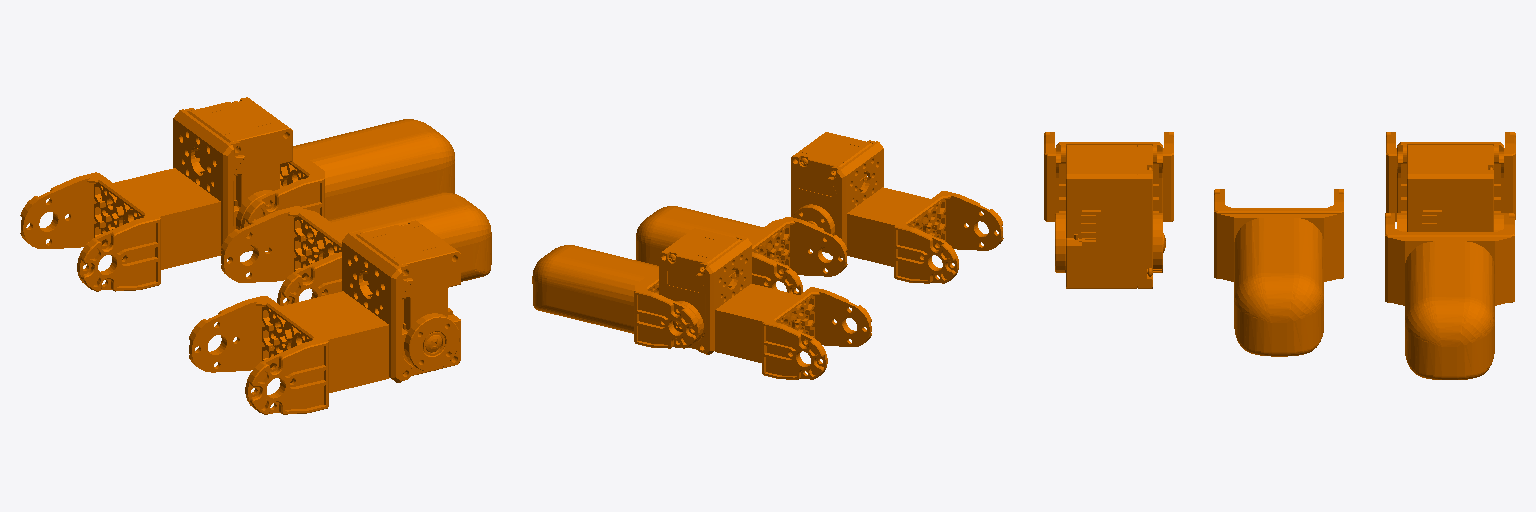
The robot description file, URDF, robot "onshape":
<robot name="onshape">
  <link name="palm_lower">
    <inertial>
      <origin xyz="0.0 0.0 0.0" rpy="0.0 -0.0 0.0"/>
      <mass value="0.237"/>
      <inertia ixx="0.000354094" ixy="-1.193e-06" ixz="-2.445e-06" iyy="0.000260915" iyz="-2.905e-06" izz="0.000529257"/>
    </inertial>
    <visual>
      <geometry>
        <mesh filename="../assets/leap/leap_hand/palm_lower.stl"/>
      </geometry>
      <origin xyz="-0.020095249652862544 0.025757756134899473 -0.034722403578460216" rpy="0.0 -0.0 0.0"/>
      <material name="palm_lower_material">
        <color rgba="0.6039215686274509 0.14901960784313725 0.14901960784313725 1.0"/>
      </material>
    </visual>
    <collision>
      <geometry>
        <mesh filename="../assets/leap/leap_hand/palm_lower.stl"/>
      </geometry>
      <origin xyz="-0.020095249652862544 0.025757756134899473 -0.034722403578460216" rpy="0.0 -0.0 0.0"/>
    </collision>
  </link>
  <link name="mcp_joint">
    <inertial>
      <origin xyz="0.0 0.0 0.0" rpy="0.0 -0.0 0.0"/>
      <mass value="0.044"/>
      <inertia ixx="1.1499e-05" ixy="3.049e-06" ixz="1.21e-07" iyy="7.796e-06" iyz="1.12e-07" izz="1.4759e-05"/>
    </inertial>
    <visual>
      <geometry>
        <mesh filename="../assets/leap/leap_hand/mcp_joint.stl"/>
      </geometry>
      <origin xyz="0.008406902261174496 0.0077662438597169954 0.014657354985032912" rpy="1.6375789613221e-15 -1.021047330249102e-30 1.7177968783327987e-31"/>
      <material name="mcp_joint_material">
        <color rgba="0.8666666666666667 0.8666666666666667 0.050980392156862744 1.0"/>
      </material>
    </visual>
    <collision>
      <geometry>
        <mesh filename="../assets/leap/leap_hand/mcp_joint.stl"/>
      </geometry>
      <origin xyz="0.008406902261174496 0.0077662438597169954 0.014657354985032912" rpy="1.6375789613221e-15 -1.021047330249102e-30 1.7177968783327987e-31"/>
    </collision>
  </link>
  <link name="pip">
    <inertial>
      <origin xyz="0.0 0.0 0.0" rpy="0.0 -0.0 0.0"/>
      <mass value="0.032"/>
      <inertia ixx="4.798e-06" ixy="1.2e-08" ixz="4e-09" iyy="2.862e-06" iyz="1.1e-08" izz="4.234e-06"/>
    </inertial>
    <visual>
      <geometry>
        <mesh filename="../assets/leap/leap_hand/pip.stl"/>
      </geometry>
      <origin xyz="0.009643363092271328 0.0002999999999999895 0.0007840340104173765" rpy="-1.5707963267948966 -1.5707963267948963 0.0"/>
      <material name="pip_material">
        <color rgba="0.7490196078431373 0.7490196078431373 0.7490196078431373 1.0"/>
      </material>
    </visual>
    <collision>
      <geometry>
        <mesh filename="../assets/leap/leap_hand/pip.stl"/>
      </geometry>
      <origin xyz="0.009643363092271328 0.0002999999999999895 0.0007840340104173765" rpy="-1.5707963267948966 -1.5707963267948963 0.0"/>
    </collision>
  </link>
  <link name="dip_long">
    <inertial>
      <origin xyz="0.0 0.0 0.0" rpy="0.0 -0.0 0.0"/>
      <mass value="0.037"/>
      <inertia ixx="5.542e-06" ixy="-6.07e-07" ixz="-1.7e-08" iyy="5.727e-06" iyz="-2.3e-08" izz="6.682e-06"/>
    </inertial>
    <visual>
      <geometry>
        <mesh filename="custom_models/dip_long.stl"/>
      </geometry>
      <origin xyz="0.021133352895225003 -0.00843211914670488 0.00978508816209524" rpy="-3.141592653589793 4.507511124216441e-32 4.439548105392361e-32"/>
      <material name="dip_material">
        <color rgba="0.878 0.467 0.0 1.0"/>
      </material>
    </visual>
    <collision>
      <geometry>
        <mesh filename="custom_models/dip_long.stl"/>
      </geometry>
      <origin xyz="0.021133352895225003 -0.00843211914670488 0.00978508816209524" rpy="-3.141592653589793 4.507511124216441e-32 4.439548105392361e-32"/>
    </collision>
  </link>
  <link name="fingertip_long">
    <inertial>
      <origin xyz="0.0 0.0 0.0" rpy="0.0 -0.0 0.0"/>
      <mass value="0.016"/>
      <inertia ixx="3.368e-06" ixy="1.15e-07" ixz="0.0" iyy="1.556e-06" iyz="0.0" izz="2.863e-06"/>
    </inertial>
    <visual>
      <geometry>
        <mesh filename="custom_models/fingertip_long.stl"/>
      </geometry>
      <origin xyz="0.013286424108533503 -0.006114238386541987 0.014499999999999498" rpy="3.141592653589793 1.1993117970061735e-33 4.439548105392361e-32"/>
      <material name="fingertip_material">
        <color rgba="0.878 0.467 0.0 1.0"/>
      </material>
    </visual>
    <collision>
      <geometry>
        <mesh filename="custom_models/fingertip_long.stl"/>
      </geometry>
      <origin xyz="0.013286424108533503 -0.006114238386541987 0.014499999999999498" rpy="3.141592653589793 1.1993117970061735e-33 4.439548105392361e-32"/>
    </collision>
  </link>
  <link name="pip_4">
    <inertial>
      <origin xyz="0.0 0.0 0.0" rpy="0.0 -0.0 0.0"/>
      <mass value="0.032"/>
      <inertia ixx="4.798e-06" ixy="1.2e-08" ixz="4e-09" iyy="2.862e-06" iyz="1.1e-08" izz="4.234e-06"/>
    </inertial>
    <visual>
      <geometry>
        <mesh filename="../assets/leap/leap_hand/pip.stl"/>
      </geometry>
      <origin xyz="-0.005356636907728671 0.0002999999999999999 0.0007840340104173782" rpy="-1.5707963267948966 -1.5707963267948963 0.0"/>
      <material name="pip_material">
        <color rgba="0.7490196078431373 0.7490196078431373 0.7490196078431373 1.0"/>
      </material>
    </visual>
    <collision>
      <geometry>
        <mesh filename="../assets/leap/leap_hand/pip.stl"/>
      </geometry>
      <origin xyz="-0.005356636907728671 0.0002999999999999999 0.0007840340104173782" rpy="-1.5707963267948966 -1.5707963267948963 0.0"/>
    </collision>
  </link>
  <link name="thumb_pip">
    <inertial>
      <origin xyz="0.0 0.0 0.0" rpy="0.0 -0.0 0.0"/>
      <mass value="0.003"/>
      <inertia ixx="5.93e-07" ixy="0.0" ixz="0.0" iyy="5.49e-07" iyz="0.0" izz="2.24e-07"/>
    </inertial>
    <visual>
      <geometry>
        <mesh filename="../assets/leap/leap_hand/thumb_pip.stl"/>
      </geometry>
      <origin xyz="0.011961920770611187 -5.30825383648903e-16 -0.0158526489566642" rpy="1.5707963267948966 1.6050198443300153e-46 -3.9204996250525193e-59"/>
      <material name="thumb_pip_material">
        <color rgba="0.8666666666666667 0.8666666666666667 0.050980392156862744 1.0"/>
      </material>
    </visual>
    <collision>
      <geometry>
        <mesh filename="../assets/leap/leap_hand/thumb_pip.stl"/>
      </geometry>
      <origin xyz="0.011961920770611187 -5.30825383648903e-16 -0.0158526489566642" rpy="1.5707963267948966 1.6050198443300153e-46 -3.9204996250525193e-59"/>
    </collision>
  </link>
  <link name="thumb_dip">
    <inertial>
      <origin xyz="0.0 0.0 0.0" rpy="0.0 -0.0 0.0"/>
      <mass value="0.038"/>
      <inertia ixx="8.474e-06" ixy="2.41e-07" ixz="2.6e-08" iyy="3.841e-06" iyz="2.5e-08" izz="7.679e-06"/>
    </inertial>
    <visual>
      <geometry>
        <mesh filename="../assets/leap/leap_hand/thumb_dip.stl"/>
      </geometry>
      <origin xyz="0.043968715707239175 0.0579529529737092 -0.008628676449369476" rpy="1.94289029309401e-16 3.27515792264422e-15 1.112375852965736e-46"/>
      <material name="thumb_dip_material">
        <color rgba="0.8666666666666667 0.8666666666666667 0.050980392156862744 1.0"/>
      </material>
    </visual>
    <collision>
      <geometry>
        <mesh filename="../assets/leap/leap_hand/thumb_dip.stl"/>
      </geometry>
      <origin xyz="0.043968715707239175 0.0579529529737092 -0.008628676449369476" rpy="1.94289029309401e-16 3.27515792264422e-15 1.112375852965736e-46"/>
    </collision>
  </link>
  <link name="thumb_fingertip">
    <inertial>
      <origin xyz="0.0 0.0 0.0" rpy="0.0 -0.0 0.0"/>
      <mass value="0.049"/>
      <inertia ixx="2.0372e-05" ixy="-4.89e-07" ixz="-3e-08" iyy="4.336e-06" iyz="-9.7e-08" izz="1.9845e-05"/>
    </inertial>
    <visual>
      <geometry>
        <mesh filename="../assets/leap/leap_hand/thumb_fingertip.stl"/>
      </geometry>
      <origin xyz="0.06255953846266739 0.07845968291139699 0.048992911807332215" rpy="4.379057701015637e-47 -3.33066907387547e-16 1.2042408677791935e-46"/>
      <material name="thumb_fingertip_material">
        <color rgba="0.6039215686274509 0.14901960784313725 0.14901960784313725 1.0"/>
      </material>
    </visual>
    <collision>
      <geometry>
        <mesh filename="../assets/leap/leap_hand/thumb_fingertip.stl"/>
      </geometry>
      <origin xyz="0.06255953846266739 0.07845968291139699 0.048992911807332215" rpy="4.379057701015637e-47 -3.33066907387547e-16 1.2042408677791935e-46"/>
    </collision>
  </link>
  <link name="mcp_joint_2">
    <inertial>
      <origin xyz="0.0 0.0 0.0" rpy="0.0 -0.0 0.0"/>
      <mass value="0.044"/>
      <inertia ixx="1.1499e-05" ixy="3.049e-06" ixz="1.21e-07" iyy="7.796e-06" iyz="1.12e-07" izz="1.4759e-05"/>
    </inertial>
    <visual>
      <geometry>
        <mesh filename="../assets/leap/leap_hand/mcp_joint.stl"/>
      </geometry>
      <origin xyz="0.008406902261174496 0.0077662438597169954 0.014657354985032914" rpy="1.6375789613221e-15 -1.0076465469034e-30 2.1209300131419907e-61"/>
      <material name="mcp_joint_material">
        <color rgba="0.8666666666666667 0.8666666666666667 0.050980392156862744 1.0"/>
      </material>
    </visual>
    <collision>
      <geometry>
        <mesh filename="../assets/leap/leap_hand/mcp_joint.stl"/>
      </geometry>
      <origin xyz="0.008406902261174496 0.0077662438597169954 0.014657354985032914" rpy="1.6375789613221e-15 -1.0076465469034e-30 2.1209300131419907e-61"/>
    </collision>
  </link>
  <link name="pip_2">
    <inertial>
      <origin xyz="0.0 0.0 0.0" rpy="0.0 -0.0 0.0"/>
      <mass value="0.032"/>
      <inertia ixx="4.798e-06" ixy="1.2e-08" ixz="4e-09" iyy="2.862e-06" iyz="1.1e-08" izz="4.234e-06"/>
    </inertial>
    <visual>
      <geometry>
        <mesh filename="../assets/leap/leap_hand/pip.stl"/>
      </geometry>
      <origin xyz="0.009643363092271328 0.0002999999999999947 0.0007840340104173765" rpy="-1.5707963267948966 -1.5707963267948963 0.0"/>
      <material name="pip_material">
        <color rgba="0.7490196078431373 0.7490196078431373 0.7490196078431373 1.0"/>
      </material>
    </visual>
    <collision>
      <geometry>
        <mesh filename="../assets/leap/leap_hand/pip.stl"/>
      </geometry>
      <origin xyz="0.009643363092271328 0.0002999999999999947 0.0007840340104173765" rpy="-1.5707963267948966 -1.5707963267948963 0.0"/>
    </collision>
  </link>
  <link name="dip_2">
    <inertial>
      <origin xyz="0.0 0.0 0.0" rpy="0.0 -0.0 0.0"/>
      <mass value="0.037"/>
      <inertia ixx="5.542e-06" ixy="-6.07e-07" ixz="-1.7e-08" iyy="5.727e-06" iyz="-2.3e-08" izz="6.682e-06"/>
    </inertial>
    <visual>
      <geometry>
        <mesh filename="../assets/leap/leap_hand/dip.stl"/>
      </geometry>
      <origin xyz="0.021133352895225003 -0.008432119146704865 0.009785088162095237" rpy="-3.141592653589793 2.1146933785271956e-32 1.4408183216511869e-31"/>
      <material name="dip_material">
        <color rgba="0.8666666666666667 0.8666666666666667 0.050980392156862744 1.0"/>
      </material>
    </visual>
    <collision>
      <geometry>
        <mesh filename="../assets/leap/leap_hand/dip.stl"/>
      </geometry>
      <origin xyz="0.021133352895225003 -0.008432119146704865 0.009785088162095237" rpy="-3.141592653589793 2.1146933785271956e-32 1.4408183216511869e-31"/>
    </collision>
  </link>
  <link name="fingertip_2_long">
    <inertial>
      <origin xyz="0.0 0.0 0.0" rpy="0.0 -0.0 0.0"/>
      <mass value="0.016"/>
      <inertia ixx="3.368e-06" ixy="1.15e-07" ixz="0.0" iyy="1.556e-06" iyz="0.0" izz="2.863e-06"/>
    </inertial>
    <visual>
      <geometry>
        <mesh filename="custom_models/fingertip_long.stl"/>
      </geometry>
      <origin xyz="0.013286424108533496 -0.006114238386542001 0.014499999999999496" rpy="3.141592653589793 -4.317959788283594e-33 1.4408183216511869e-31"/>
      <material name="fingertip_material">
        <color rgba="0.878 0.467 0.0 1.0"/>
      </material>
    </visual>
    <collision>
      <geometry>
        <mesh filename="custom_models/fingertip_long.stl"/>
      </geometry>
      <origin xyz="0.013286424108533496 -0.006114238386542001 0.014499999999999496" rpy="3.141592653589793 -4.317959788283594e-33 1.4408183216511869e-31"/>
    </collision>
  </link>
  <link name="mcp_joint_3">
    <inertial>
      <origin xyz="0.0 0.0 0.0" rpy="0.0 -0.0 0.0"/>
      <mass value="0.044"/>
      <inertia ixx="1.1499e-05" ixy="3.049e-06" ixz="1.21e-07" iyy="7.796e-06" iyz="1.12e-07" izz="1.4759e-05"/>
    </inertial>
    <visual>
      <geometry>
        <mesh filename="../assets/leap/leap_hand/mcp_joint.stl"/>
      </geometry>
      <origin xyz="0.0084069022611745 0.007766243859716996 0.014657354985032914" rpy="1.6375789613221e-15 -1.0059504988632627e-30 5.729641584552035e-32"/>
      <material name="mcp_joint_material">
        <color rgba="0.8666666666666667 0.8666666666666667 0.050980392156862744 1.0"/>
      </material>
    </visual>
    <collision>
      <geometry>
        <mesh filename="../assets/leap/leap_hand/mcp_joint.stl"/>
      </geometry>
      <origin xyz="0.0084069022611745 0.007766243859716996 0.014657354985032914" rpy="1.6375789613221e-15 -1.0059504988632627e-30 5.729641584552035e-32"/>
    </collision>
  </link>
  <link name="pip_3">
    <inertial>
      <origin xyz="0.0 0.0 0.0" rpy="0.0 -0.0 0.0"/>
      <mass value="0.032"/>
      <inertia ixx="4.798e-06" ixy="1.2e-08" ixz="4e-09" iyy="2.862e-06" iyz="1.1e-08" izz="4.234e-06"/>
    </inertial>
    <visual>
      <geometry>
        <mesh filename="../assets/leap/leap_hand/pip.stl"/>
      </geometry>
      <origin xyz="0.009643363092271331 0.00029999999999998084 0.0007840340104173765" rpy="-1.5707963267948966 -1.5707963267948963 0.0"/>
      <material name="pip_material">
        <color rgba="0.7490196078431373 0.7490196078431373 0.7490196078431373 1.0"/>
      </material>
    </visual>
    <collision>
      <geometry>
        <mesh filename="../assets/leap/leap_hand/pip.stl"/>
      </geometry>
      <origin xyz="0.009643363092271331 0.00029999999999998084 0.0007840340104173765" rpy="-1.5707963267948966 -1.5707963267948963 0.0"/>
    </collision>
  </link>
  <link name="dip_3_long">
    <inertial>
      <origin xyz="0.0 0.0 0.0" rpy="0.0 -0.0 0.0"/>
      <mass value="0.037"/>
      <inertia ixx="5.542e-06" ixy="-6.07e-07" ixz="-1.7e-08" iyy="5.727e-06" iyz="-2.3e-08" izz="6.682e-06"/>
    </inertial>
    <visual>
      <geometry>
        <mesh filename="custom_models/dip_long.stl"/>
      </geometry>
      <origin xyz="0.021133352895225006 -0.008432119146704865 0.009785088162095237" rpy="-3.141592653589793 -1.4095651113919093e-33 1.5565411607615035e-32"/>
      <material name="dip_material">
        <color rgba="0.878 0.467 0.0 1.0"/>
      </material>
    </visual>
    <collision>
      <geometry>
        <mesh filename="custom_models/dip_long.stl"/>
      </geometry>
      <origin xyz="0.021133352895225006 -0.008432119146704865 0.009785088162095237" rpy="-3.141592653589793 -1.4095651113919093e-33 1.5565411607615035e-32"/>
    </collision>
  </link>
  <link name="fingertip_3">
    <inertial>
      <origin xyz="0.0 0.0 0.0" rpy="0.0 -0.0 0.0"/>
      <mass value="0.016"/>
      <inertia ixx="3.368e-06" ixy="1.15e-07" ixz="0.0" iyy="1.556e-06" iyz="0.0" izz="2.863e-06"/>
    </inertial>
    <visual>
      <geometry>
        <mesh filename="../assets/leap/leap_hand/fingertip.stl"/>
      </geometry>
      <origin xyz="0.013286424108533501 -0.006114238386541987 0.0144999999999995" rpy="3.141592653589793 8.61707169505754e-33 1.5565411607615035e-32"/>
      <material name="fingertip_material">
        <color rgba="0.8666666666666667 0.8666666666666667 0.050980392156862744 1.0"/>
      </material>
    </visual>
    <collision>
      <geometry>
        <mesh filename="../assets/leap/leap_hand/fingertip.stl"/>
      </geometry>
      <origin xyz="0.013286424108533501 -0.006114238386541987 0.0144999999999995" rpy="3.141592653589793 8.61707169505754e-33 1.5565411607615035e-32"/>
    </collision>
  </link>
  <joint name="1" type="revolute">
    <parent link="palm_lower"/>
    <child link="mcp_joint"/>
    <origin xyz="-0.007095249652862546 0.023057756134899472 -0.01872240357846022" rpy="1.570796326794895 1.5707963267948946 0.0"/>
    <axis xyz="0.0 0.0 -1.0"/>
    <limit effort="0.95" velocity="8.48" lower="-0.314" upper="2.23"/>
  </joint>
  <joint name="0" type="revolute">
    <parent link="mcp_joint"/>
    <child link="pip"/>
    <origin xyz="-0.012200000000000008 0.038099999999999995 0.0145" rpy="-1.5707963267948966 -1.0065212660796337e-15 1.5707963267948943"/>
    <axis xyz="0.0 0.0 -1.0"/>
    <limit effort="0.95" velocity="8.48" lower="-1.047" upper="1.047"/>
  </joint>
  <joint name="2" type="revolute">
    <parent link="pip"/>
    <child link="dip_long"/>
    <origin xyz="0.014999999999999968 0.014299999999999905 -0.012999999999999824" rpy="1.570796326794896 -1.5707963267948963 0.0"/>
    <axis xyz="0.0 0.0 -1.0"/>
    <limit effort="0.95" velocity="8.48" lower="-0.506" upper="1.885"/>
  </joint>
  <joint name="3" type="revolute">
    <parent link="dip_long"/>
    <child link="fingertip_long"/>
    <origin xyz="-4.0880582495572692636e-09 -0.051100004210367367397 0.00020000000000007858714" rpy="4.5935029425113685e-17 -2.8730071914463795e-16 4.439548105392361e-32"/>
    <axis xyz="0.0 0.0 -1.0"/>
    <limit effort="0.95" velocity="8.48" lower="-0.366" upper="2.042"/>
  </joint>
  <joint name="12" type="revolute">
    <parent link="palm_lower"/>
    <child link="pip_4"/>
    <origin xyz="-0.06939524965286253 -0.0012422438651005258 -0.021622403578460216" rpy="-8.238176646493942e-17 1.5707963267948957 0.0"/>
    <axis xyz="0.0 0.0 -1.0"/>
    <limit effort="0.95" velocity="8.48" lower="-0.349" upper="2.094"/>
  </joint>
  <joint name="13" type="revolute">
    <parent link="pip_4"/>
    <child link="thumb_pip"/>
    <origin xyz="-2.7755575615628914e-17 0.014300000000000005 -0.013000000000000012" rpy="1.570796326794896 -1.5707963267948963 0.0"/>
    <axis xyz="0.0 0.0 -1.0"/>
    <limit effort="0.95" velocity="8.48" lower="-0.47" upper="2.443"/>
  </joint>
  <joint name="14" type="revolute">
    <parent link="thumb_pip"/>
    <child link="thumb_dip"/>
    <origin xyz="0.0 0.014499999999999966 -0.017000000000000053" rpy="-1.5707963267948966 1.6050198443300131e-46 -1.9721522630516625e-31"/>
    <axis xyz="0.0 0.0 -1.0"/>
    <limit effort="0.95" velocity="8.48" lower="-1.2" upper="1.9"/>
  </joint>
  <joint name="15" type="revolute">
    <parent link="thumb_dip"/>
    <child link="thumb_fingertip"/>
    <origin xyz="-1.249000902703301e-16 0.046599999999999864 0.0001999999999999771" rpy="1.506395849149178e-44 5.423418723393526e-31 3.141592653589793"/>
    <axis xyz="0.0 0.0 -1.0"/>
    <limit effort="0.95" velocity="8.48" lower="-1.34" upper="1.88"/>
  </joint>
  <joint name="5" type="revolute">
    <parent link="palm_lower"/>
    <child link="mcp_joint_2"/>
    <origin xyz="-0.007095249652862546 -0.022392243865100525 -0.01872240357846022" rpy="1.570796326794895 1.5707963267948946 0.0"/>
    <axis xyz="0.0 0.0 -1.0"/>
    <limit effort="0.95" velocity="8.48" lower="-0.314" upper="2.23"/>
  </joint>
  <joint name="4" type="revolute">
    <parent link="mcp_joint_2"/>
    <child link="pip_2"/>
    <origin xyz="-0.012200000000000008 0.038099999999999995 0.0145" rpy="-1.5707963267948966 -1.0065212660796337e-15 1.5707963267948943"/>
    <axis xyz="0.0 0.0 -1.0"/>
    <limit effort="0.95" velocity="8.48" lower="-1.047" upper="1.047"/>
  </joint>
  <joint name="6" type="revolute">
    <parent link="pip_2"/>
    <child link="dip_2"/>
    <origin xyz="0.014999999999999968 0.014299999999999905 -0.012999999999999824" rpy="1.570796326794896 -1.5707963267948963 0.0"/>
    <axis xyz="0.0 0.0 -1.0"/>
    <limit effort="0.95" velocity="8.48" lower="-0.506" upper="1.885"/>
  </joint>
  <joint name="7" type="revolute">
    <parent link="dip_2"/>
    <child link="fingertip_2_long"/>
    <origin xyz="-4.088058249557269e-09 -0.03610000421036737 0.0002000000000000786" rpy="4.5935029425113685e-17 -2.8730071914463795e-16 4.439548105392361e-32"/>
    <axis xyz="0.0 0.0 -1.0"/>
    <limit effort="0.95" velocity="8.48" lower="-0.366" upper="2.042"/>
  </joint>
  <joint name="9" type="revolute">
    <parent link="palm_lower"/>
    <child link="mcp_joint_3"/>
    <origin xyz="-0.007095249652862546 -0.06784224386510052 -0.01872240357846022" rpy="1.570796326794895 1.5707963267948946 0.0"/>
    <axis xyz="0.0 0.0 -1.0"/>
    <limit effort="0.95" velocity="8.48" lower="-0.314" upper="2.23"/>
  </joint>
  <joint name="8" type="revolute">
    <parent link="mcp_joint_3"/>
    <child link="pip_3"/>
    <origin xyz="-0.012200000000000008 0.038099999999999995 0.0145" rpy="-1.5707963267948966 -1.0065212660796337e-15 1.5707963267948943"/>
    <axis xyz="0.0 0.0 -1.0"/>
    <limit effort="0.95" velocity="8.48" lower="-1.047" upper="1.047"/>
  </joint>
  <joint name="10" type="revolute">
    <parent link="pip_3"/>
    <child link="dip_3_long"/>
    <origin xyz="0.014999999999999968 0.014299999999999905 -0.012999999999999824" rpy="1.570796326794896 -1.5707963267948963 0.0"/>
    <axis xyz="0.0 0.0 -1.0"/>
    <limit effort="0.95" velocity="8.48" lower="-0.506" upper="1.885"/>
  </joint>
  <joint name="11" type="revolute">
    <parent link="dip_3_long"/>
    <child link="fingertip_3"/>
    <origin xyz="-4.0880582495572692636e-09 -0.051100004210367367397 0.00020000000000007858714" rpy="4.5935029425113685e-17 -2.8730071914463795e-16 4.439548105392361e-32"/>
    <axis xyz="0.0 0.0 -1.0"/>
    <limit effort="0.95" velocity="8.48" lower="-0.366" upper="2.042"/>
  </joint>
</robot>

--- Facts derived from the render (not from the file) ---
Views: 3 orthographic renders of the robot side by side, from view 1: azimuth 30°, elevation 25°; view 2: azimuth 150°, elevation 25°; view 3: azimuth 270°, elevation 25°.
Robot: onshape — 17 links, 16 joints (16 revolute); root link palm_lower; default pose: every joint at zero.
Links seen in each view (by area): view 1: dip_3_long, dip_long, fingertip_2_long, fingertip_long; view 2: dip_3_long, dip_long, fingertip_long, fingertip_2_long; view 3: dip_3_long, fingertip_2_long, fingertip_long, dip_long.
Boxes of the visible links, box(x1,y1,x2,y2) form: dip_3_long: box(189, 220, 460, 414); dip_long: box(20, 97, 292, 291); fingertip_2_long: box(221, 192, 491, 305); fingertip_long: box(241, 119, 454, 250); dip_3_long: box(791, 132, 1003, 283); dip_long: box(659, 228, 871, 379); fingertip_long: box(532, 245, 699, 348); fingertip_2_long: box(636, 206, 847, 294); dip_3_long: box(1044, 132, 1173, 288); fingertip_2_long: box(1214, 189, 1343, 356); fingertip_long: box(1385, 213, 1514, 379); dip_long: box(1386, 132, 1515, 231).
Size in the robot's own frame: 0.1235 by 0.1255 by 0.0356 metres.
4 mesh visuals loaded from 10 distinct referenced files (2 binary STL); not drawn: 13 (reference not matched to a file when rendering).